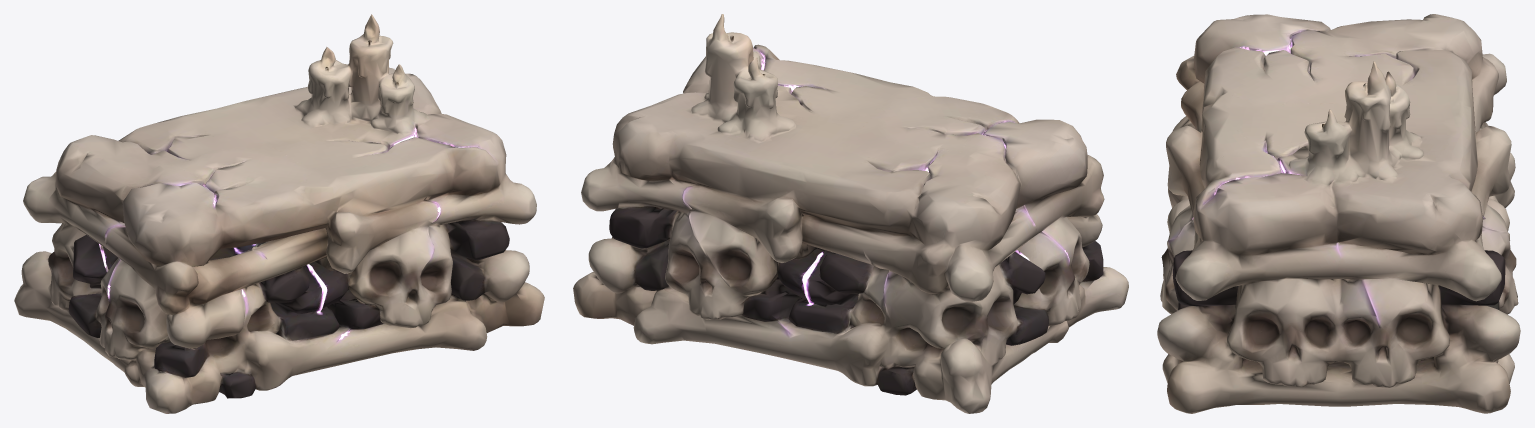
The model's file is ev_altar2-Dw05wDOQ.glb.
3 views of the same model, side by side, from view 1: azimuth 30°, elevation 25°; view 2: azimuth 150°, elevation 25°; view 3: azimuth 270°, elevation 25° (orthographic). The views are drawn at different scales.
Visible parts, largest first — view 1: tripo_node_e66b7b51-5932-4e71-9d72-613995728e3b; view 2: tripo_node_e66b7b51-5932-4e71-9d72-613995728e3b; view 3: tripo_node_e66b7b51-5932-4e71-9d72-613995728e3b.
Part boxes in pixels (x1,y1,x2,y2): tripo_node_e66b7b51-5932-4e71-9d72-613995728e3b: (14,14,544,413); tripo_node_e66b7b51-5932-4e71-9d72-613995728e3b: (573,14,1128,413); tripo_node_e66b7b51-5932-4e71-9d72-613995728e3b: (1157,14,1520,413).
Size of the model in its own units: 3.3 by 2.2 by 2.28.
1 material, 1 textured.
